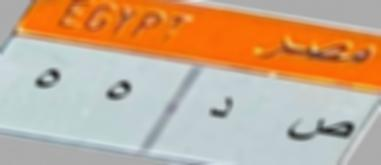5: (99, 74, 150, 114)
daal: (198, 96, 247, 128)
saad: (284, 109, 356, 149)
